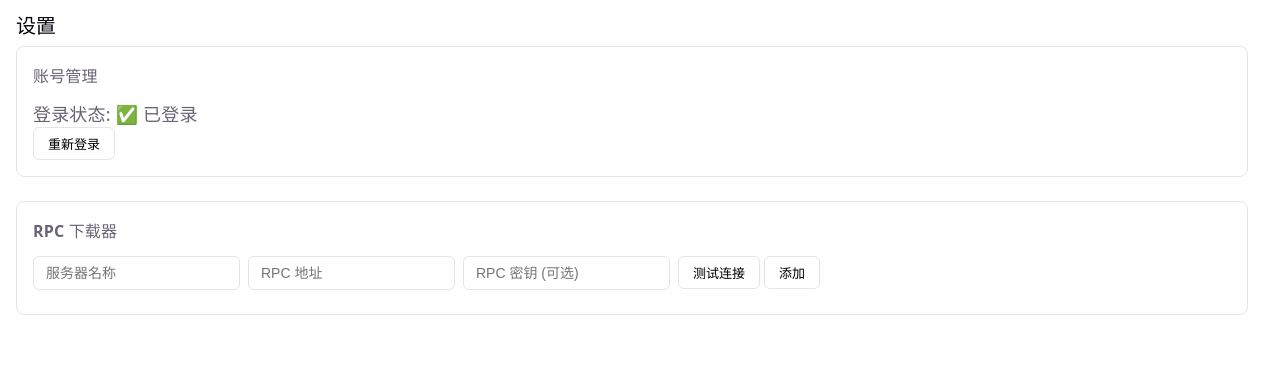
Scenario: Settings 组件 › 测试连接失败
Type "http://bad-host:6800" into the field with test id "new-server-url".
click(352, 273); type("http://bad-host:6800")  # box top-left (248, 256), bottom-right (455, 290)
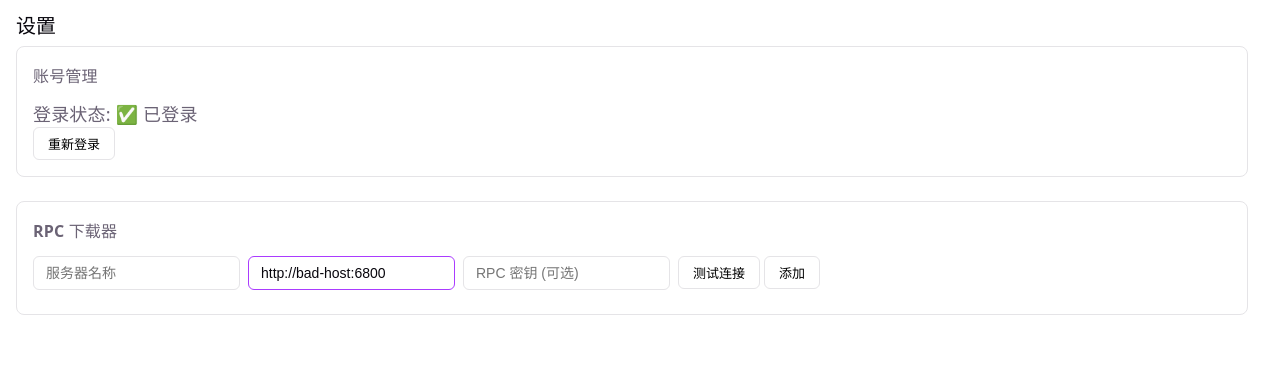
Click the button with test id "test-connection-button".
click(719, 272)  # box top-left (678, 256), bottom-right (760, 289)
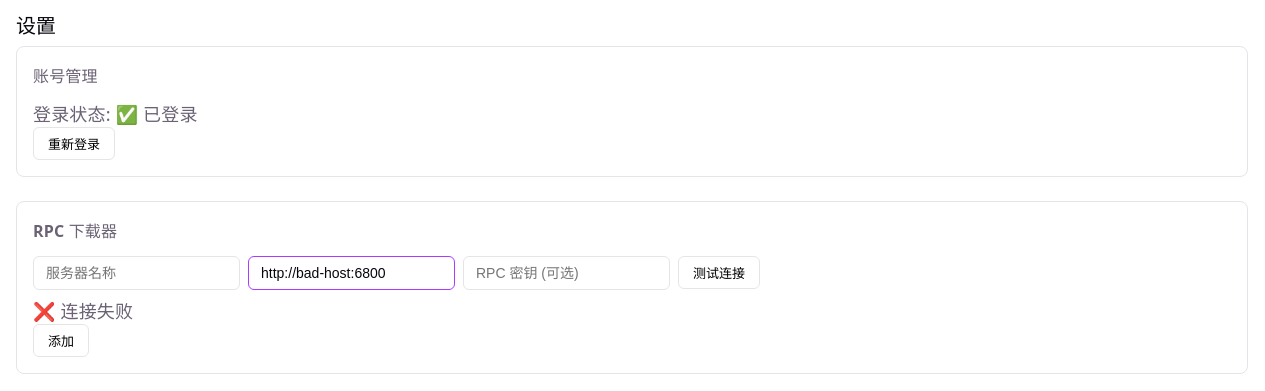
Check: the text with test id "test-connection-result" shows "连接失败", box top-left (33, 299), bottom-right (133, 323)
